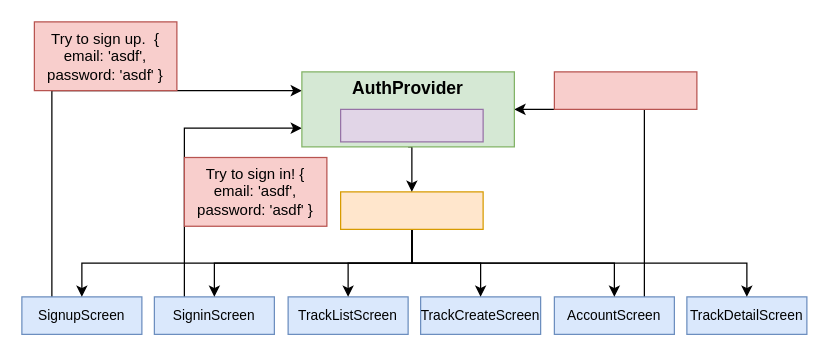
Image size: 829x356. Some labels were removed from this diagram. Each missing label, with the centre of its shape:
Navigation Stuff: the point at 411,210
Try to sign out!: the point at 625,90
{ isSignedIn: true }: the point at 411,125
